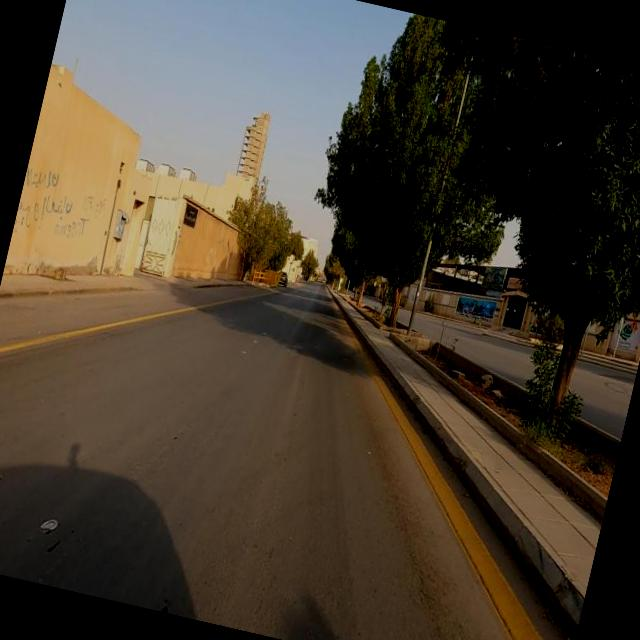debris: (9, 126, 126, 266), (15, 168, 138, 286)
